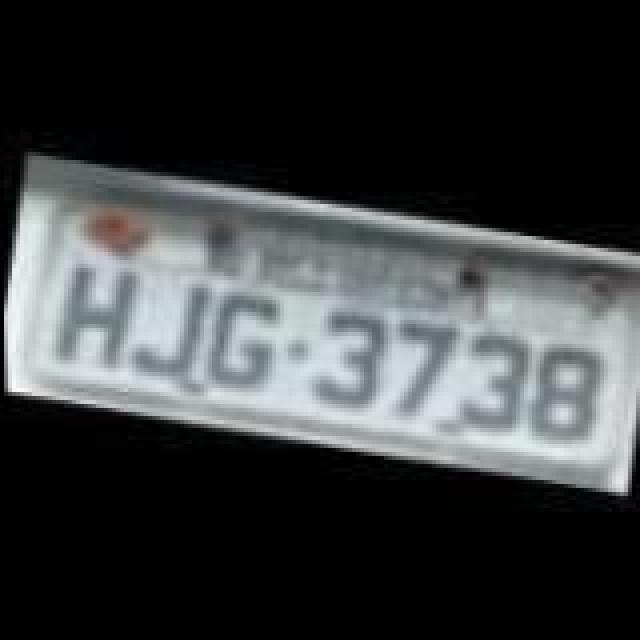3: (450, 326, 538, 442), (300, 300, 388, 416)
7: (376, 316, 464, 428)
8: (520, 340, 604, 452)
G: (192, 284, 288, 396)
H: (44, 250, 140, 374)
J: (130, 268, 214, 384)
